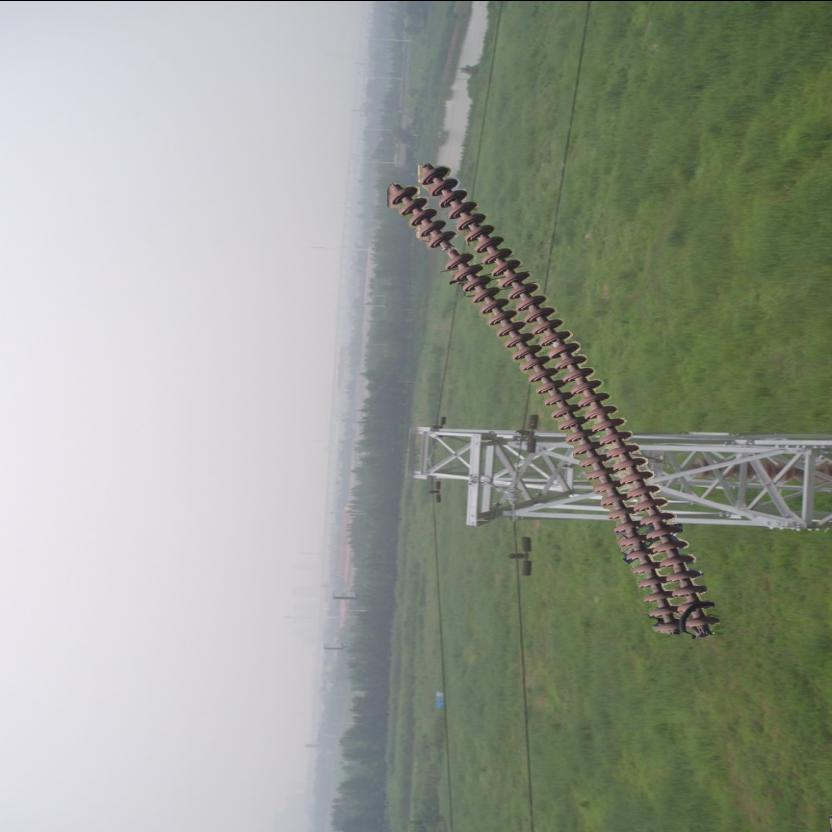defect: (426, 228, 473, 270)
